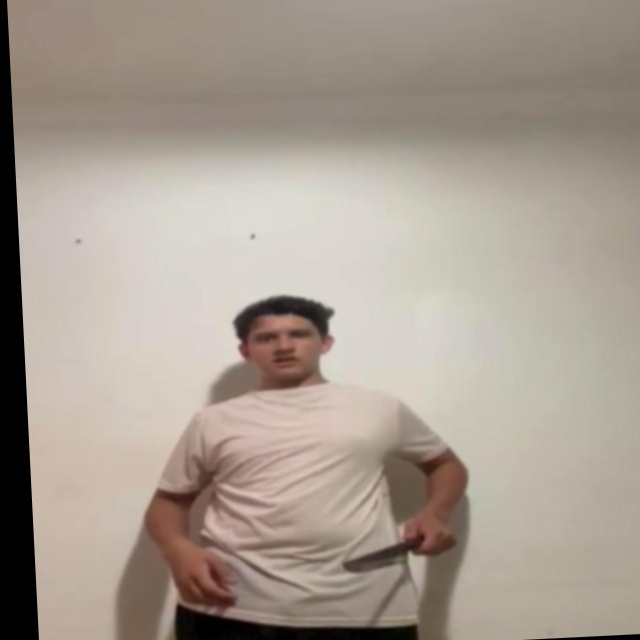Sharp-Object: (338, 538, 411, 577)
